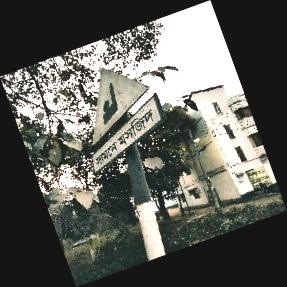Mosque in front: (88, 65, 164, 176)
